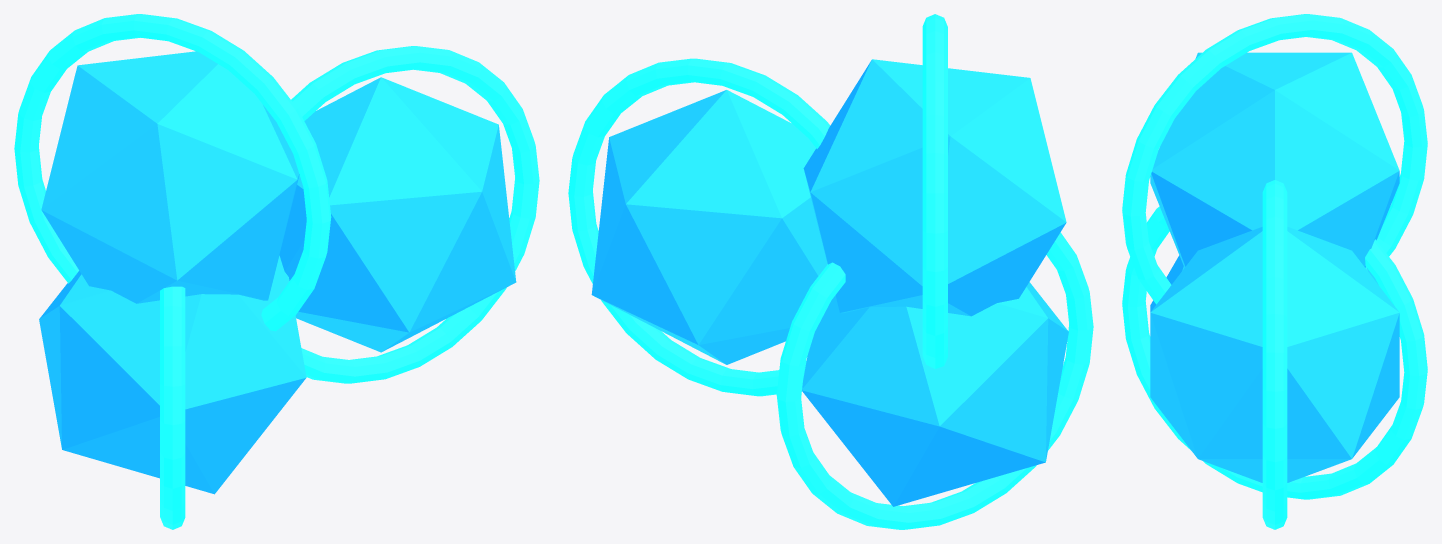
The model's file is cosmic_orbs.glb.
3 views of the same model, side by side, from view 1: azimuth 30°, elevation 25°; view 2: azimuth 150°, elevation 25°; view 3: azimuth 270°, elevation 25° (orthographic). The views are drawn at different scales.
Visible parts, largest first — view 1: Mana_01.002, Mana_00.002, Mana_02.002, Torus.023, Torus.022, Torus.024; view 2: Mana_00.002, Mana_01.002, Mana_02.002, Torus.024, Torus.022, Torus.023; view 3: Mana_00.002, Mana_01.002, Torus.023, Torus.024, Torus.022.
Part boxes in pixels (x1,y1,x2,y2): Mana_01.002: [41, 51, 299, 303]; Mana_00.002: [279, 77, 516, 352]; Mana_02.002: [39, 255, 306, 494]; Torus.023: [14, 14, 331, 331]; Torus.022: [291, 46, 539, 383]; Torus.024: [160, 286, 185, 529]; Mana_00.002: [591, 90, 827, 364]; Mana_01.002: [803, 59, 1066, 316]; Mana_02.002: [802, 282, 1068, 506]; Torus.024: [776, 232, 1093, 529]; Torus.022: [568, 58, 830, 396]; Torus.023: [922, 14, 947, 368]; Mana_00.002: [1150, 227, 1399, 482]; Mana_01.002: [1150, 52, 1399, 267]; Torus.023: [1122, 14, 1427, 304]; Torus.024: [1122, 206, 1427, 499]; Torus.022: [1262, 180, 1287, 529].
Size of the model in its own units: 1.36 by 1.29 by 0.7508.
